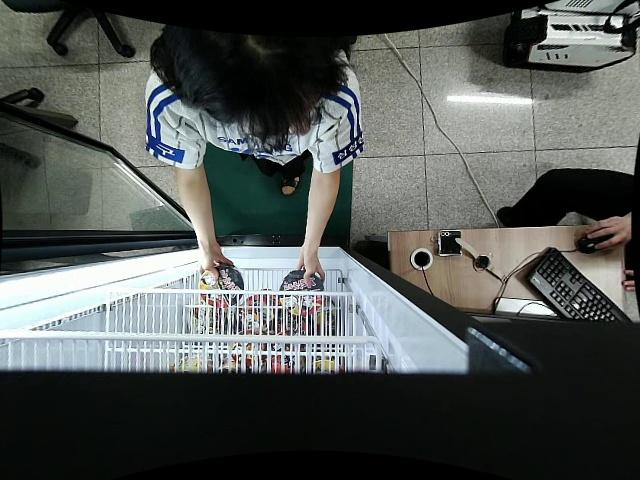00_hand: (293, 247, 327, 287), (195, 252, 235, 281)
07_buldak_L: (279, 269, 325, 317), (199, 263, 243, 305)
